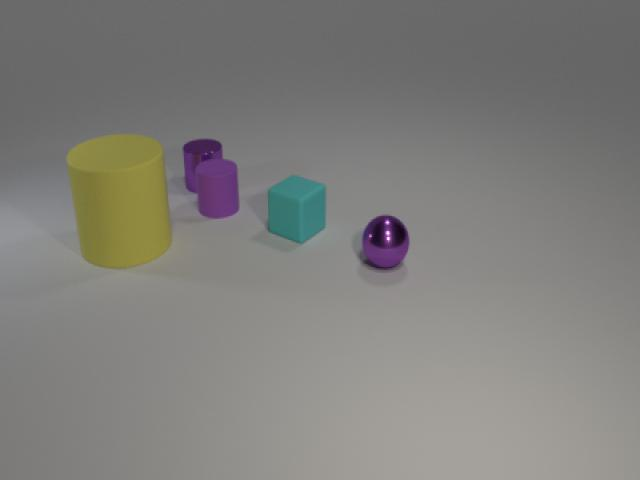cylinder: (60, 125, 175, 274), (194, 153, 242, 223), (180, 131, 225, 194)
round ball: (357, 208, 416, 278)
